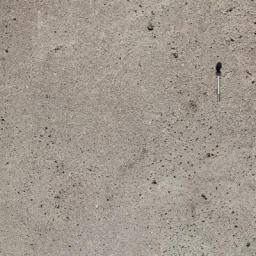FOD: (211, 60, 226, 104)
